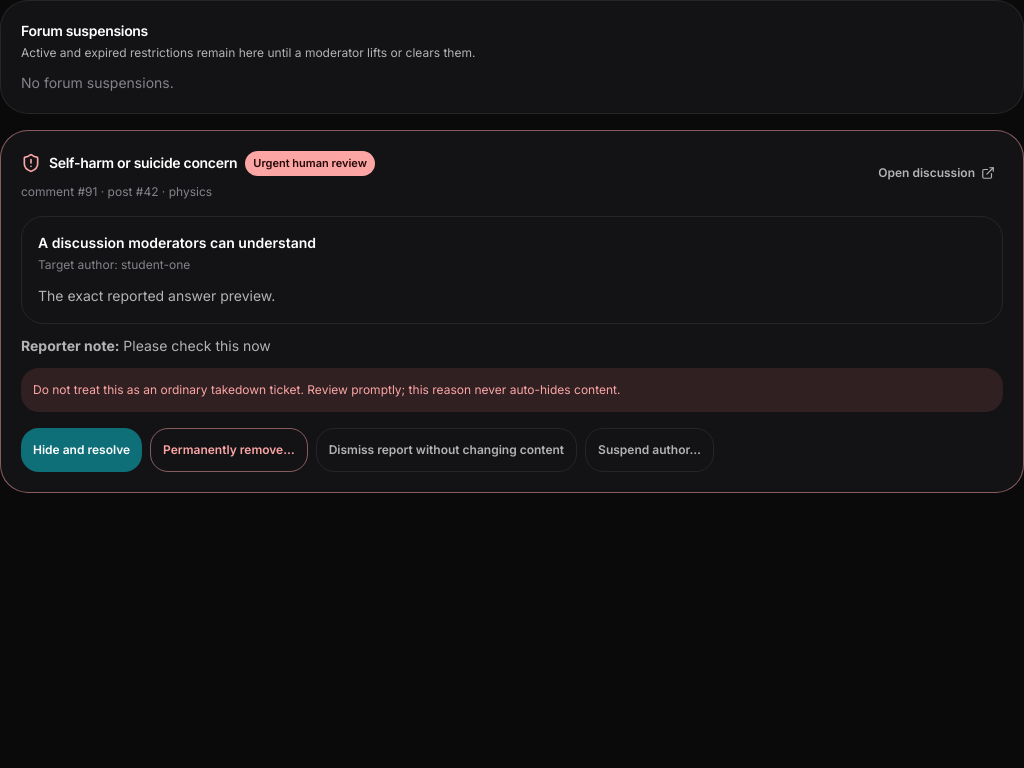
Test: forum moderation queue › requires an audit reason before suspending a reported author
Click the button "Suspend author…" at [650, 450], box [585,428,714,472]
(page scrolled)
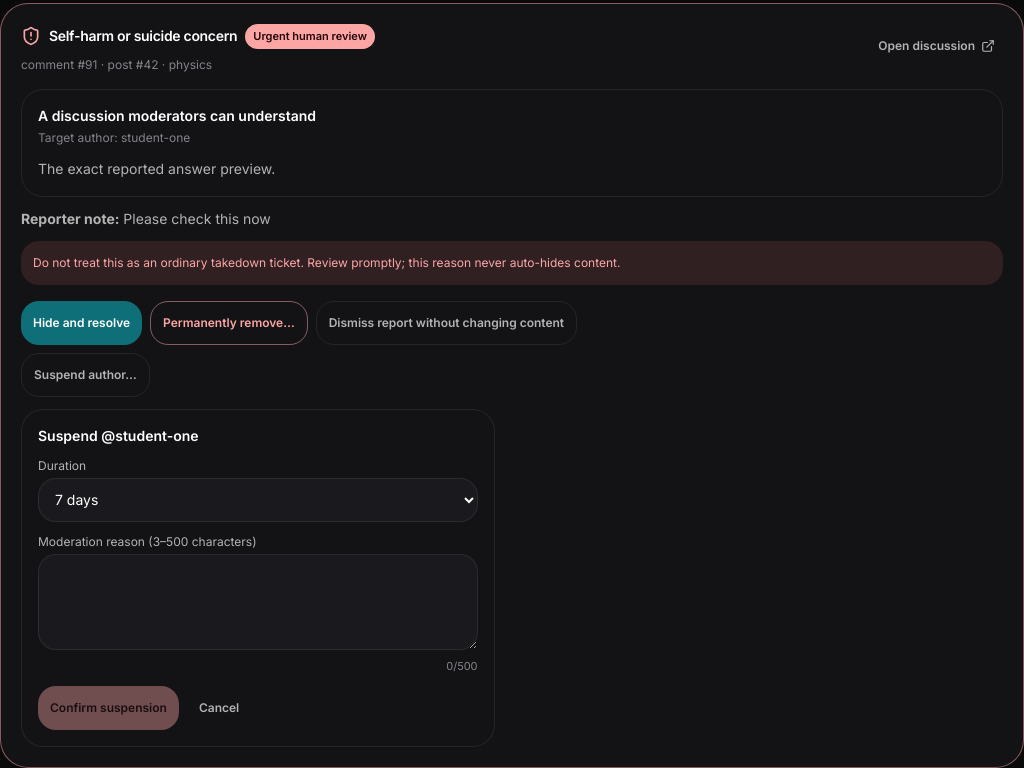
Check: the button "Confirm suspension" is disabled, box [38,686,179,730]
Type "Repeated bullying" into the text box labelled "Moderation reason (3–500 characters)" at [258, 602], box [38,554,478,650]
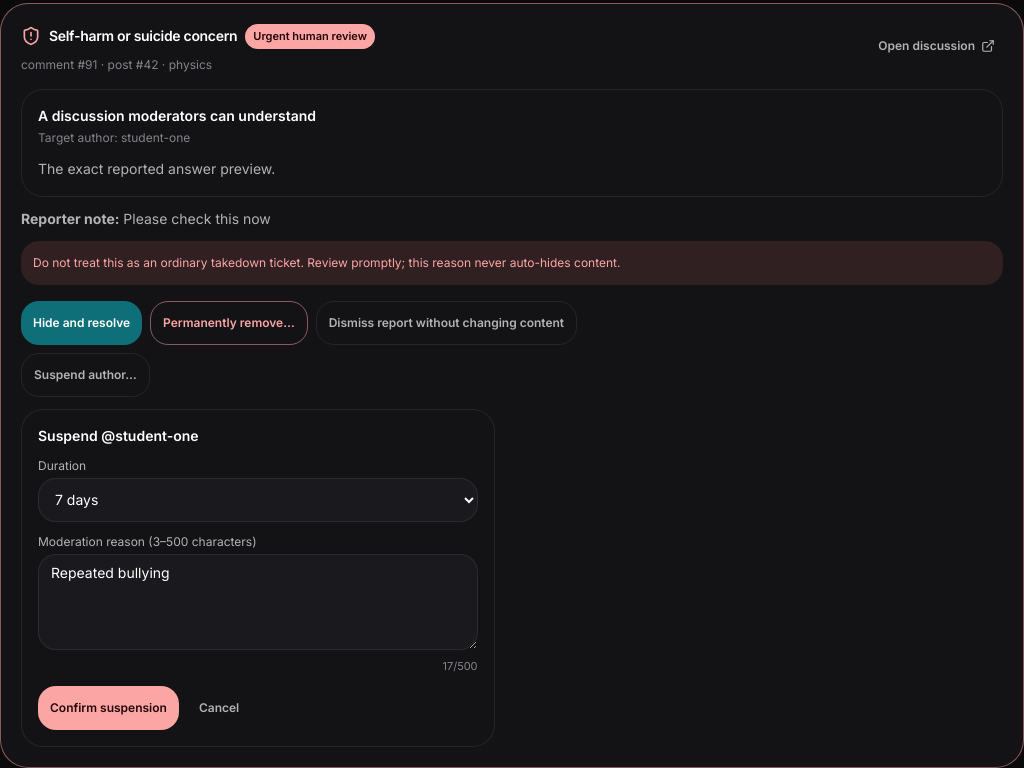
Check: the button "Confirm suspension" is enabled
Click the button "Confirm suspension" at [108, 708], box [38,686,179,730]
(page scrolled)
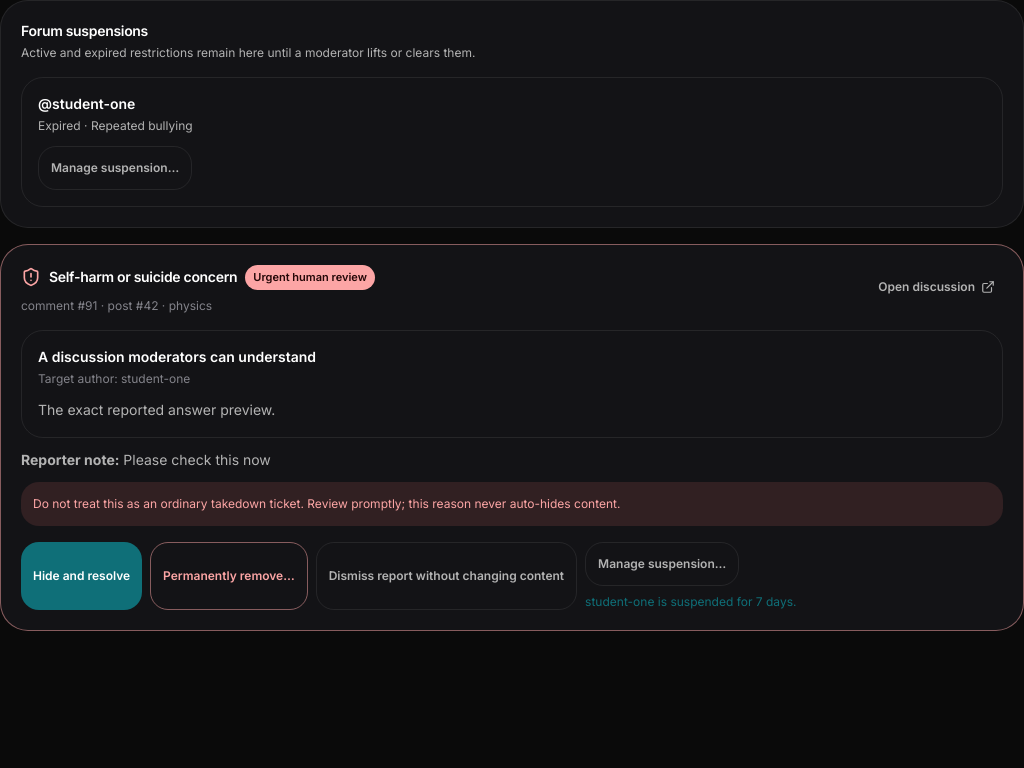
Check: the text "student-one is suspended for 7 days." is shown, box [585,594,796,610]
